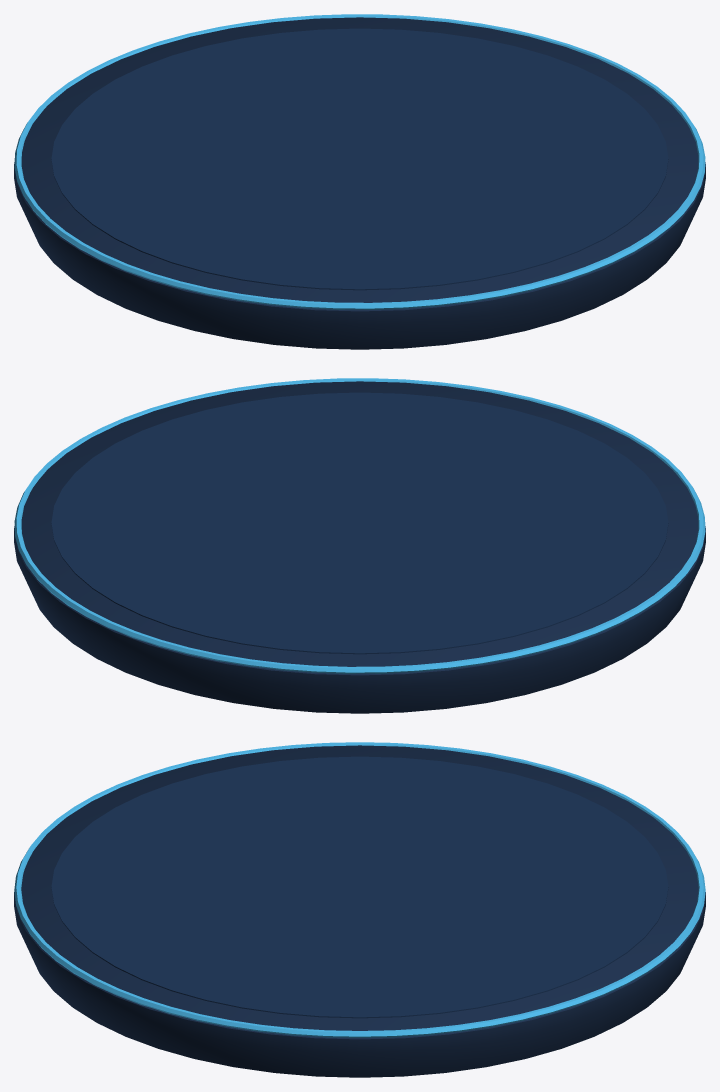
Rendered from Pedestal.fbx.
3 renders of one model, top to bottom at view 1: azimuth 30°, elevation 25°; view 2: azimuth 150°, elevation 25°; view 3: azimuth 270°, elevation 25°, orthographic.
Parts seen in each view (by area): view 1: Pedestal; view 2: Pedestal; view 3: Pedestal.
Part boxes in pixels (bbox=[...]): Pedestal: bbox=[14, 14, 705, 349]; Pedestal: bbox=[14, 378, 705, 713]; Pedestal: bbox=[14, 742, 705, 1077].
Bounding box in the file's own units: 2.4 × 0.214 × 2.4.
